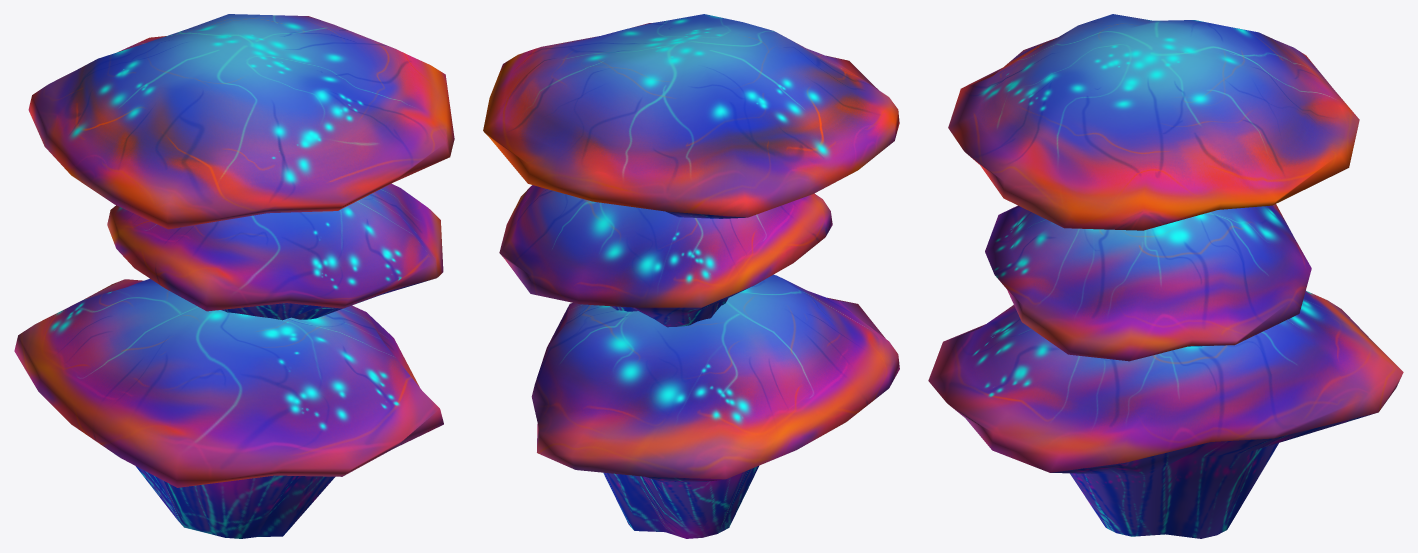
File: normal shroom resized.fbx
3 views of the same model, side by side, from view 1: azimuth 30°, elevation 25°; view 2: azimuth 150°, elevation 25°; view 3: azimuth 270°, elevation 25° (orthographic). The views are drawn at different scales.
Parts seen in each view (by area): view 1: polySurface1; view 2: polySurface1; view 3: polySurface1.
Boxes of the visible parts, box(x1,y1,x2,y2) form: polySurface1: box(14, 14, 454, 538); polySurface1: box(483, 14, 899, 538); polySurface1: box(928, 14, 1403, 538).
Bounding box in the file's own units: 1.22 × 1.51 × 1.37.
